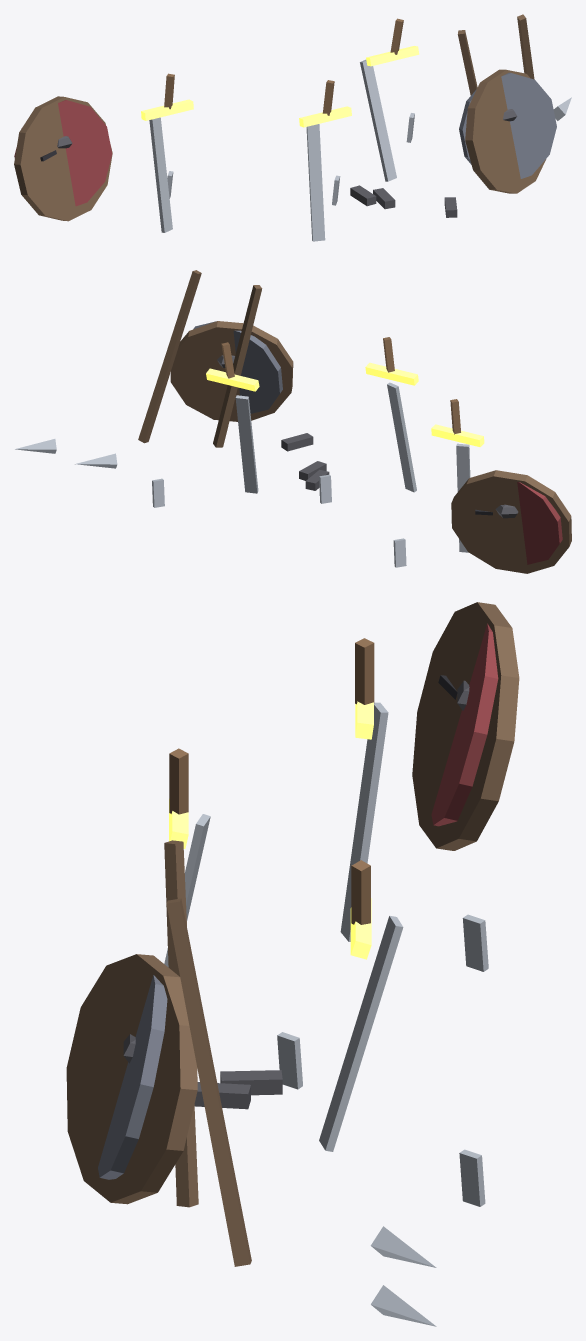
The model's file is weapon_field.glb.
3 renders of one model, top to bottom at view 1: azimuth 30°, elevation 25°; view 2: azimuth 150°, elevation 25°; view 3: azimuth 270°, elevation 25°, orthographic. The views are drawn at different scales.
Parts seen in each view (by area): view 1: weapon_field; view 2: weapon_field; view 3: weapon_field.
Part boxes in pixels (<box>): weapon_field: <box>14,14,571,241</box>; weapon_field: <box>15,270,571,573</box>; weapon_field: <box>66,602,519,1326</box>.
Size of the model in its own units: 4.61 by 1.36 by 1.63.
